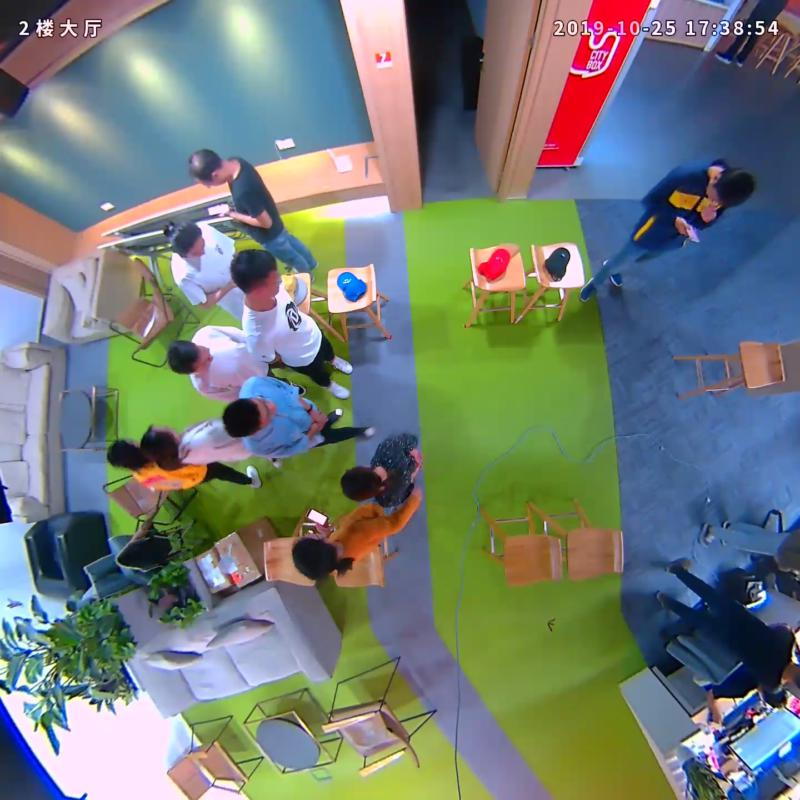head: (231, 249, 280, 299), (223, 396, 277, 438), (290, 537, 339, 579), (705, 168, 754, 208), (166, 339, 212, 375), (187, 149, 230, 187), (340, 465, 383, 503), (169, 219, 205, 259), (138, 426, 179, 461), (107, 439, 143, 470)
